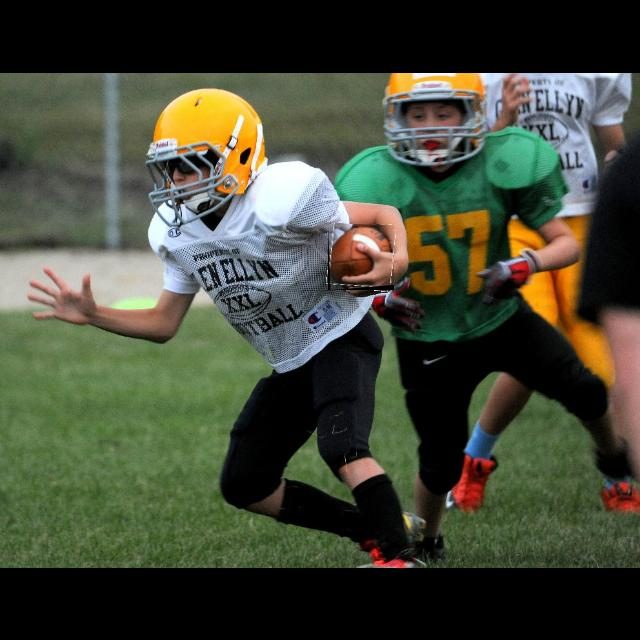Football: (328, 224, 394, 290)
